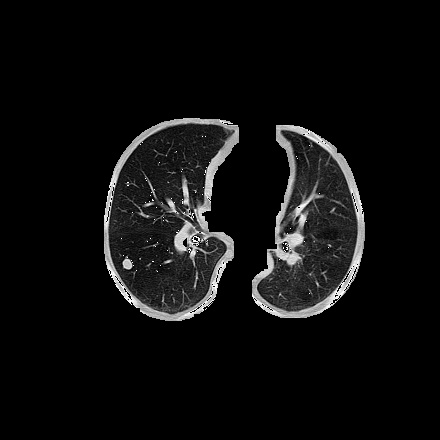PN: (121, 258, 133, 270)
